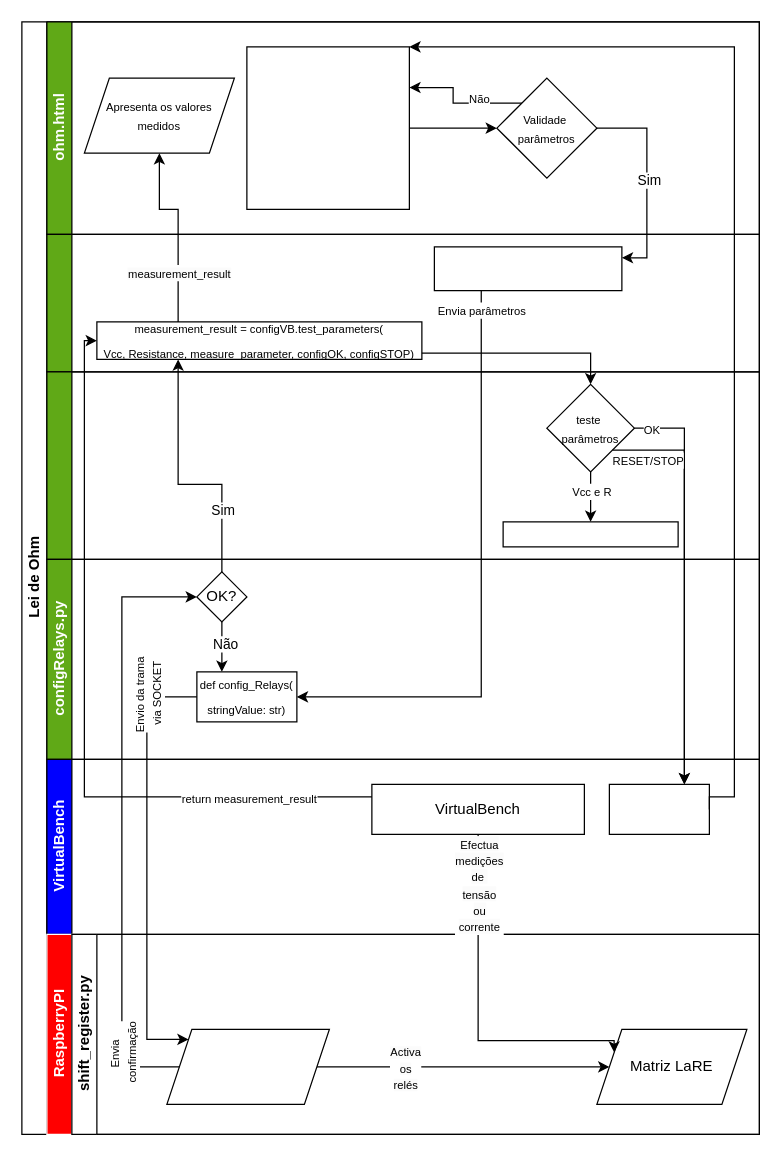
Some shapes in this 781 by 1156 pixel diagram are drawn without their labels. Each missing label, with the box of its shape:
Configura o VirtualBench: (608, 783, 709, 834)
configVB.py: (46, 371, 759, 559)
def configRelays.config_relays_ohm( Resistance, measure_parameter ): (433, 246, 622, 291)
def test_parameters(parâmetros): (502, 521, 678, 547)
Parâmetros a enviar: R VCC OK Reset/STOP Medir tensão Medir corrente: (246, 46, 409, 209)
Recebe a trama de bits: (166, 1028, 329, 1104)
views.py: (46, 233, 759, 372)
